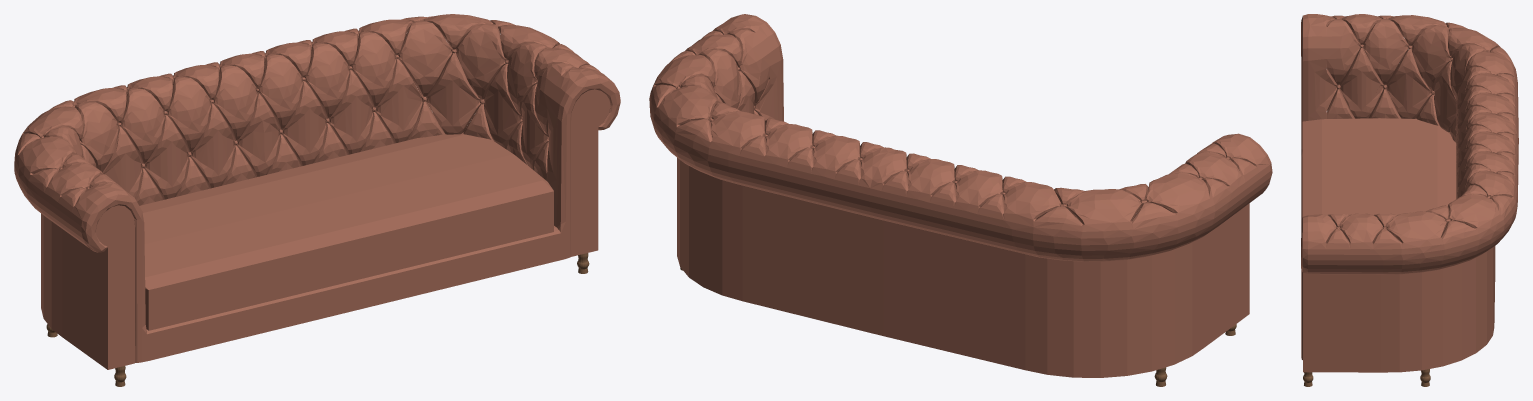
Rendered from sweethome3d-blendswap-cc-0-winchester-sofa-139.glb.
3 renders of one model, left to right at view 1: azimuth 30°, elevation 25°; view 2: azimuth 150°, elevation 25°; view 3: azimuth 270°, elevation 25°, orthographic. The views are drawn at different scales.
Parts seen in each view (by area): view 1: Circle, Cube_Cube.001, Circle.002_Circle.003; view 2: Circle.002_Circle.003, Circle; view 3: Circle, Circle.002_Circle.003, Cube_Cube.001.
Part boxes in pixels (box(x1,y1,x2,y2)): Circle: box(14, 14, 620, 362); Cube_Cube.001: box(139, 132, 553, 330); Circle.002_Circle.003: box(41, 89, 610, 369); Circle.002_Circle.003: box(677, 158, 1249, 377); Circle: box(649, 14, 1272, 261); Circle: box(1301, 14, 1518, 359); Circle.002_Circle.003: box(1303, 246, 1495, 372); Cube_Cube.001: box(1302, 118, 1456, 216).
Bounding box in the file's own units: 232 × 80.43 × 93.77.
